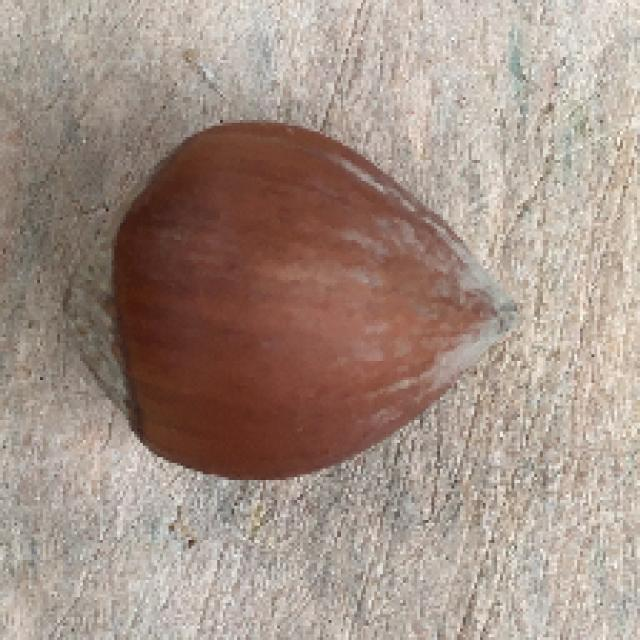qualityHazelnut: (63, 118, 523, 490)
